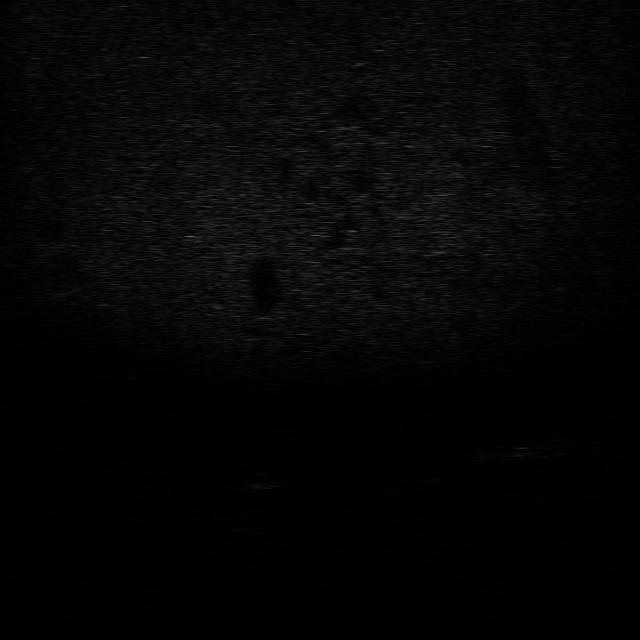ball: (236, 468, 282, 491)
human body: (462, 433, 566, 464)
